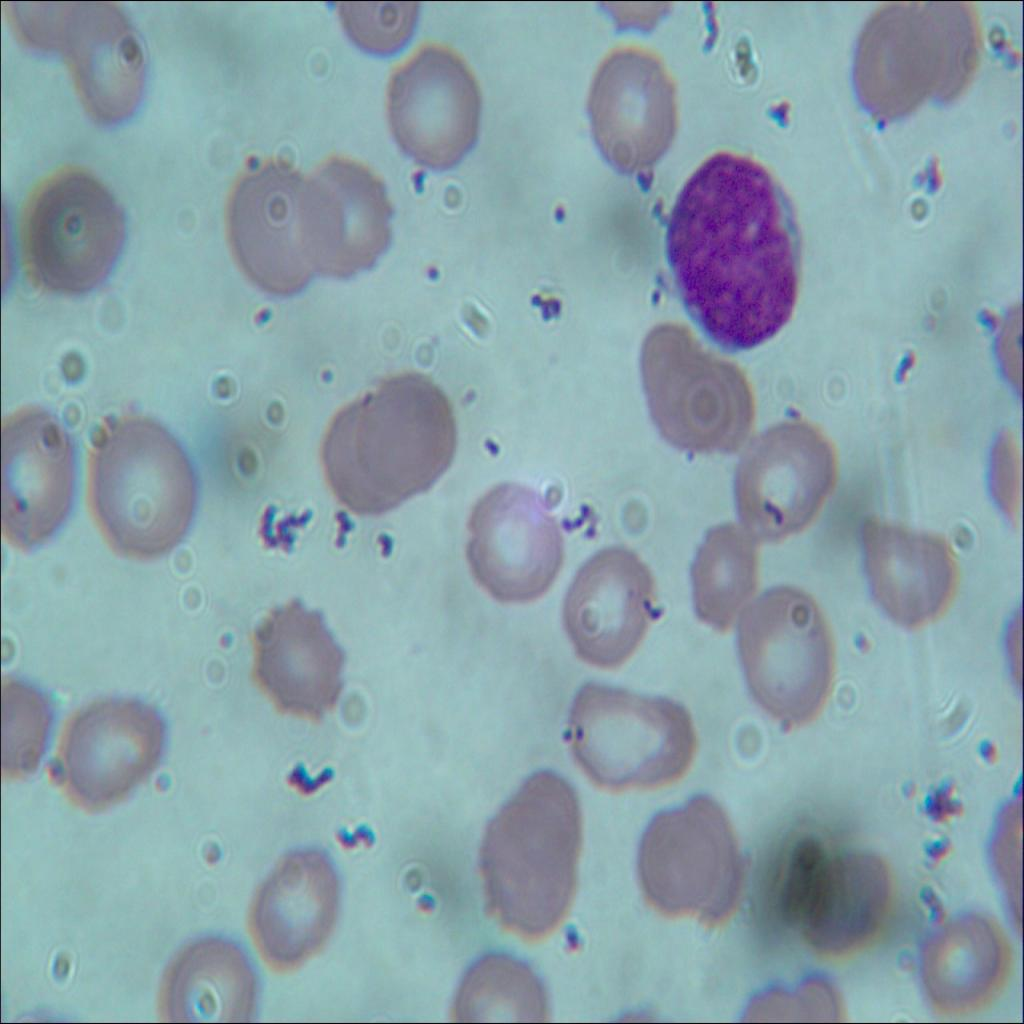Eritrosit: (551, 664, 702, 794), (464, 768, 579, 927), (84, 415, 201, 567), (638, 321, 754, 467), (49, 692, 170, 824), (21, 174, 141, 305), (851, 495, 958, 638), (238, 595, 351, 728), (236, 847, 344, 980), (228, 162, 338, 292), (906, 894, 1016, 1021), (638, 791, 738, 930), (461, 479, 566, 610), (558, 534, 658, 671), (788, 835, 895, 962), (738, 584, 832, 724), (586, 44, 682, 180), (735, 412, 835, 542), (386, 45, 482, 174), (0, 402, 74, 559), (363, 371, 455, 497), (302, 155, 398, 275), (61, 1, 150, 128), (316, 399, 408, 515), (148, 934, 261, 1023), (436, 932, 546, 1023), (856, 7, 936, 127), (903, 0, 981, 121), (686, 518, 760, 644), (0, 672, 50, 777)
Limfoblast: (666, 148, 801, 358)
Platelet: (238, 145, 276, 201), (971, 730, 1011, 780), (415, 254, 444, 292), (549, 192, 571, 241), (318, 354, 344, 387), (570, 721, 593, 744), (559, 714, 571, 748)
